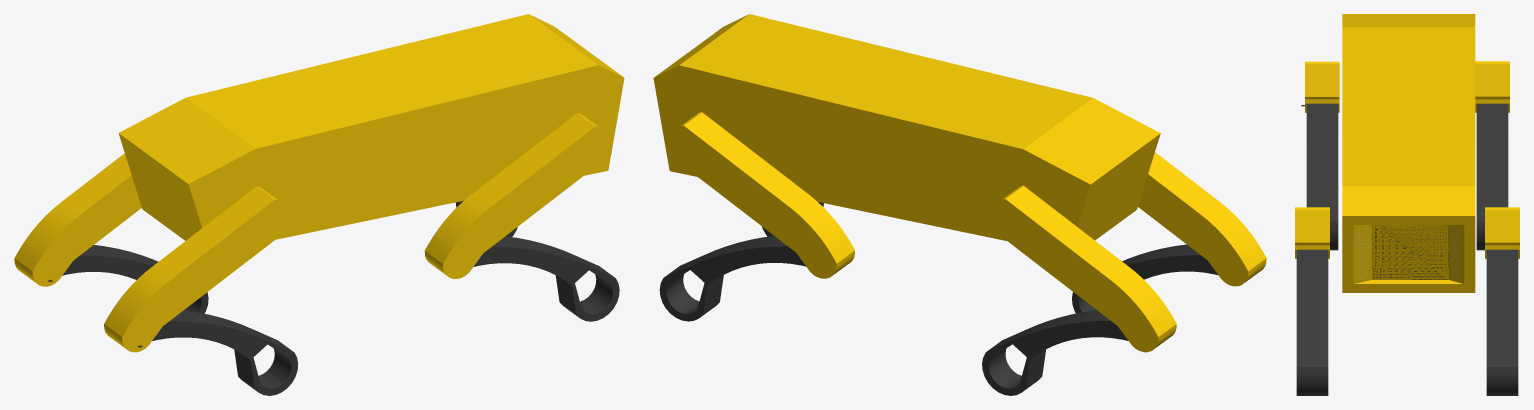
Rendered from robot2.fbx.
The picture shows the model from 3 angles, left to right: view 1: azimuth 30°, elevation 25°; view 2: azimuth 150°, elevation 25°; view 3: azimuth 270°, elevation 25°; orthographic projection. The views are drawn at different scales.
Visible parts, largest first — view 1: Group1; view 2: Group1; view 3: Group1.
Boxes of the visible parts, x1,y1,x2,y2 form: Group1: (14,14,624,395); Group1: (653,14,1266,395); Group1: (1295,14,1519,395).
Bounding box in the file's own units: 1.84 × 0.7818 × 0.7207.
